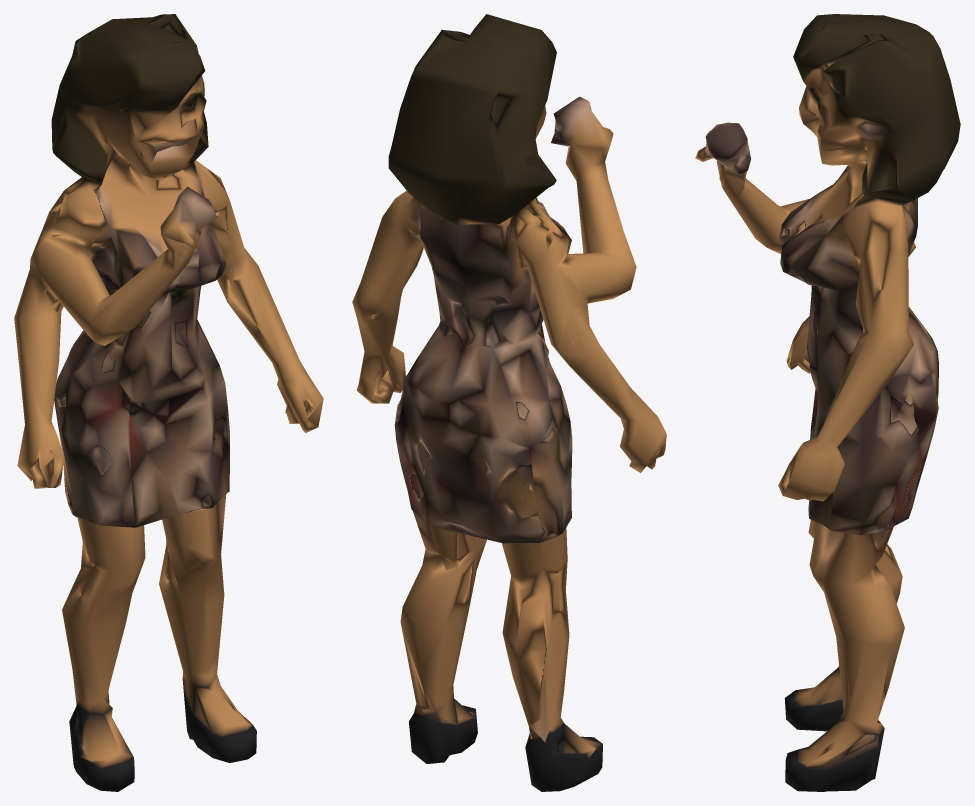
Rendered from gen3d-singer-lod0.glb.
The picture shows the model from 3 angles, left to right: view 1: azimuth 30°, elevation 25°; view 2: azimuth 150°, elevation 25°; view 3: azimuth 270°, elevation 25°; orthographic projection. The views are drawn at different scales.
Visible parts, largest first — view 1: part_0; view 2: part_0; view 3: part_0.
Part boxes in pixels (x1,y1,x2,y2): part_0: (14,14,323,791); part_0: (352,14,666,791); part_0: (695,14,960,791).
Bounding box in the file's own units: 0.4166 × 0.9942 × 0.3273.
